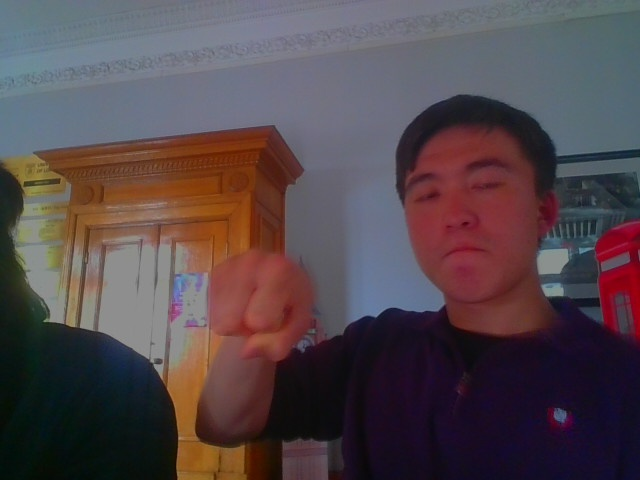yes: (202, 238, 341, 366)
